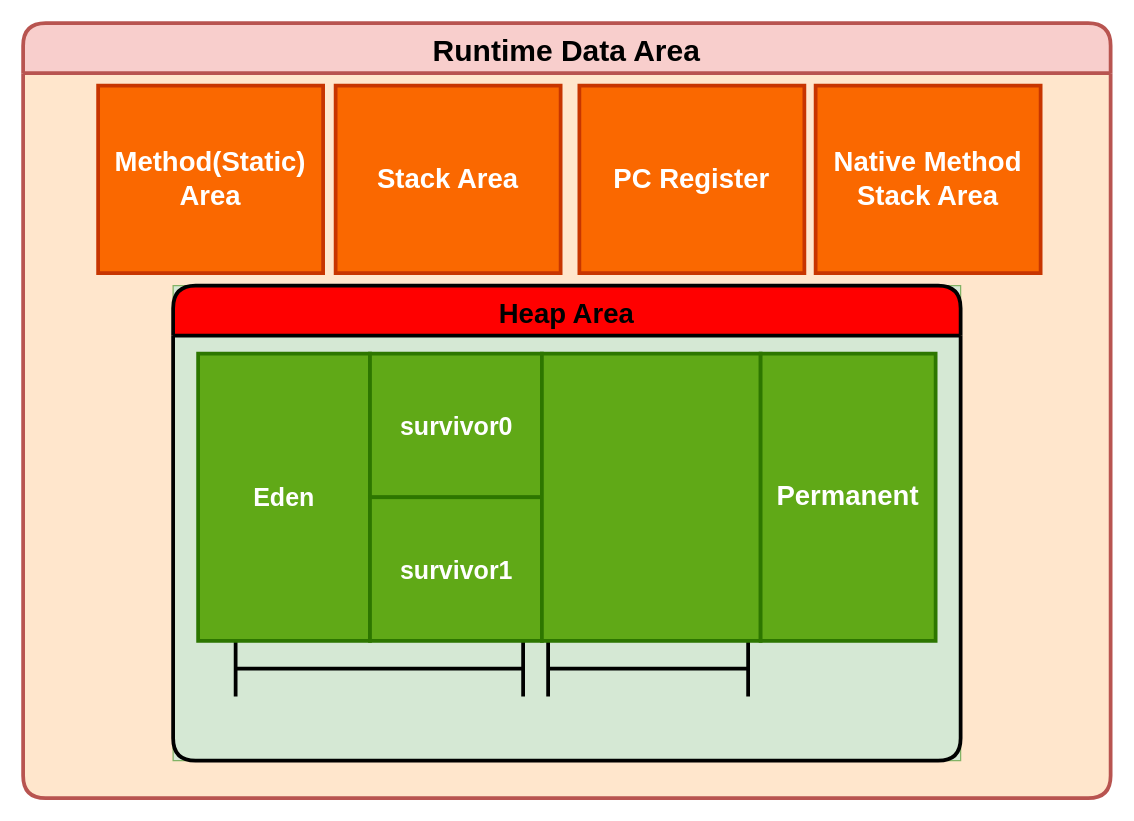
Image size: 1134x821. Some labels were removed from this diagram. The shapes that lost their labels are listed below. From the top down, each one's centre as x and y in pixels, then its label:
point 650,496: O ld
point 378,668: Young Generation (minor GC)
point 647,668: Tenured Generation (major GC)
